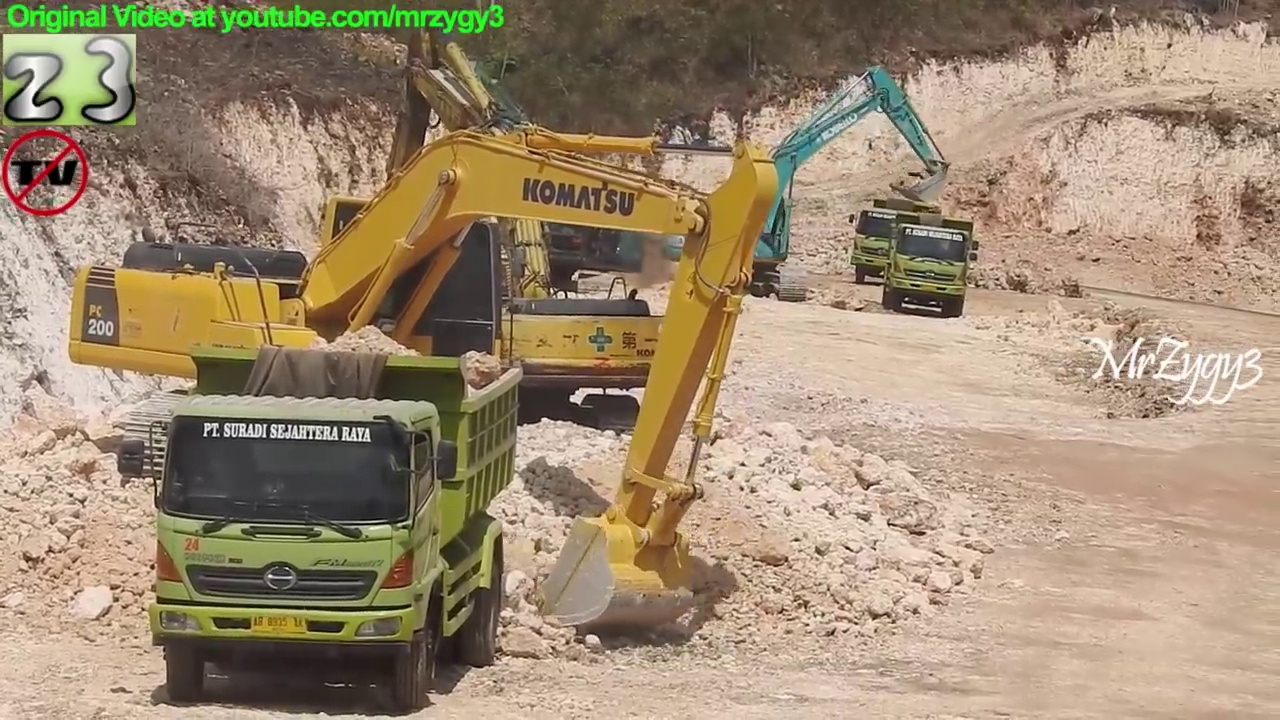excavator: (65, 114, 785, 637), (303, 23, 689, 450), (389, 50, 655, 328), (686, 59, 953, 310)
truck: (117, 343, 527, 716), (881, 209, 981, 320), (844, 196, 948, 288)
